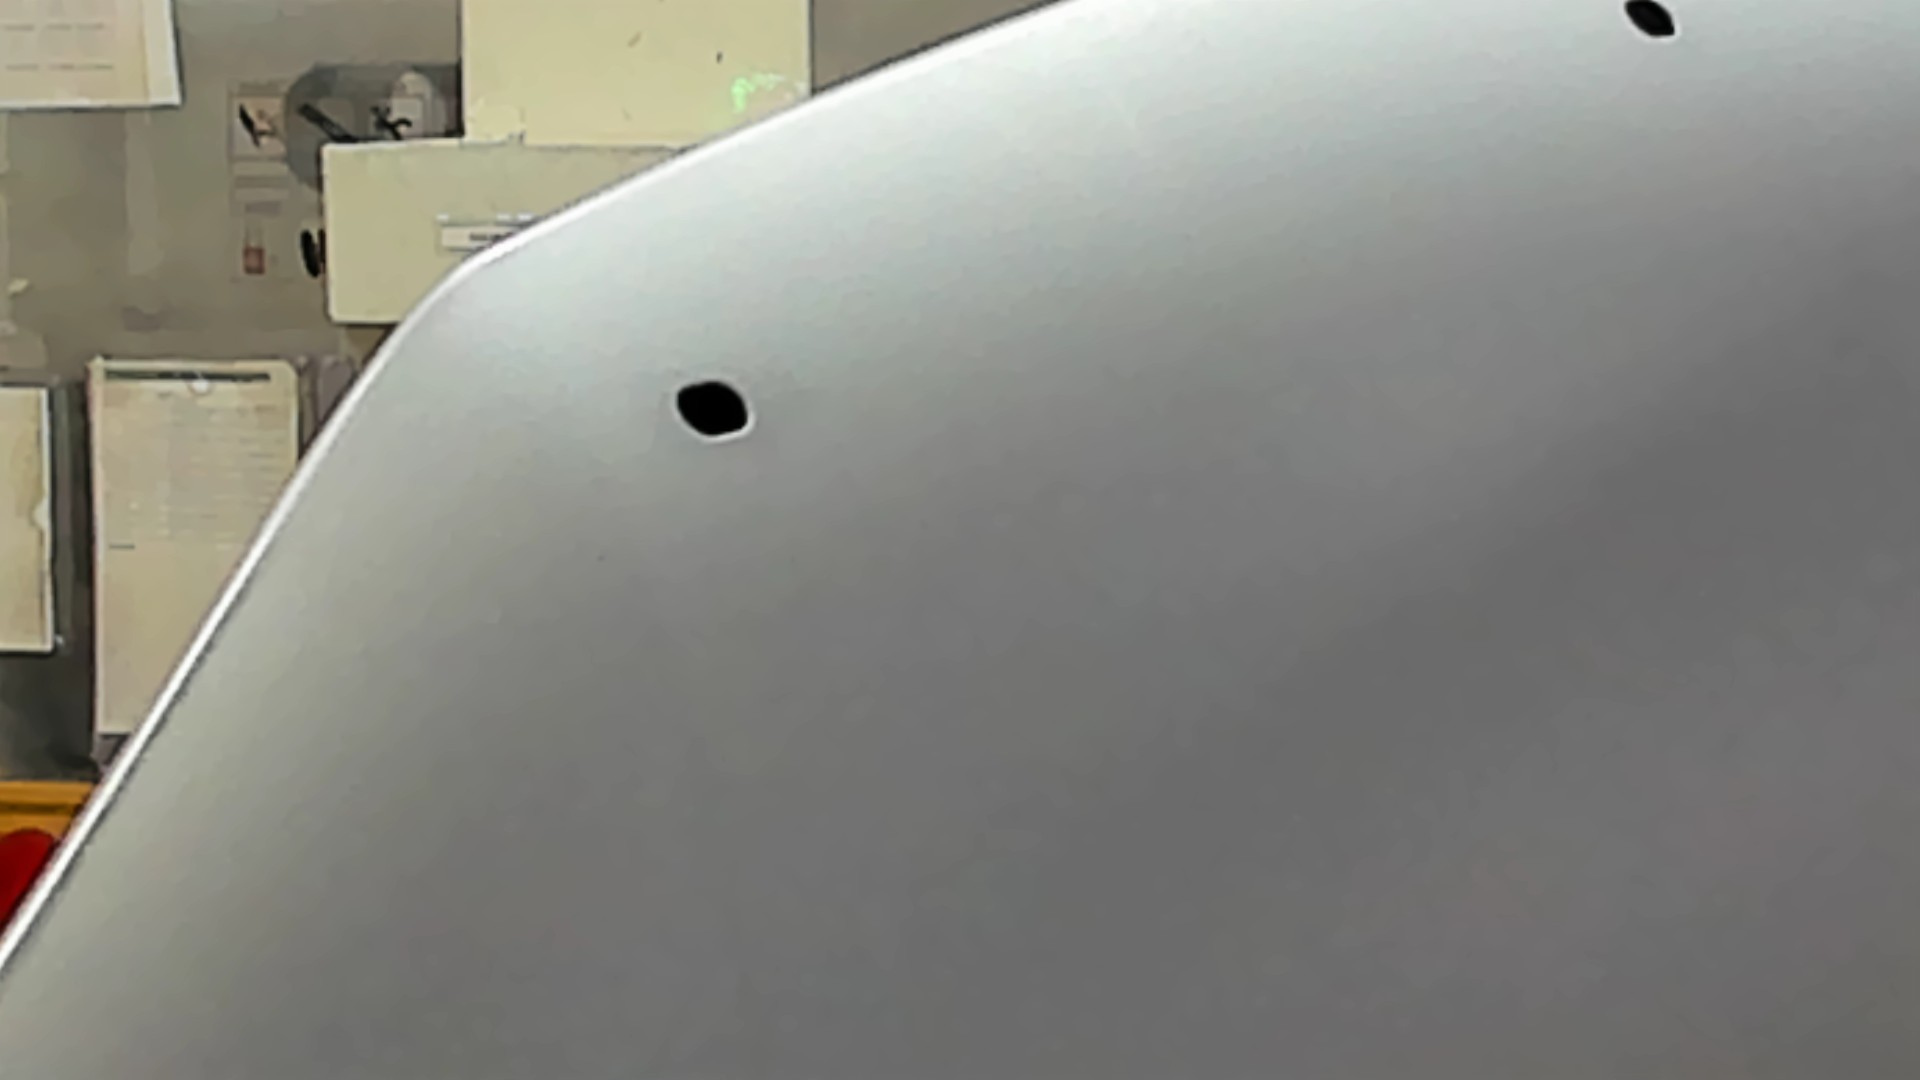chico: (665, 369, 760, 448), (1613, 1, 1693, 55)
